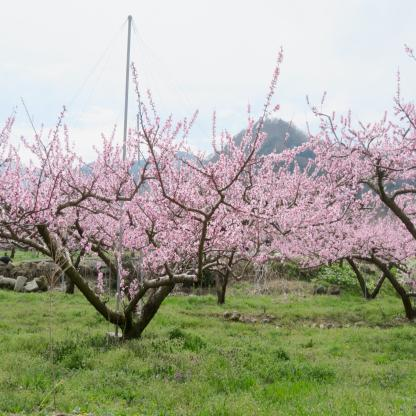Momo: (0, 39, 321, 343), (285, 31, 416, 284), (0, 92, 132, 292), (146, 113, 294, 281)
